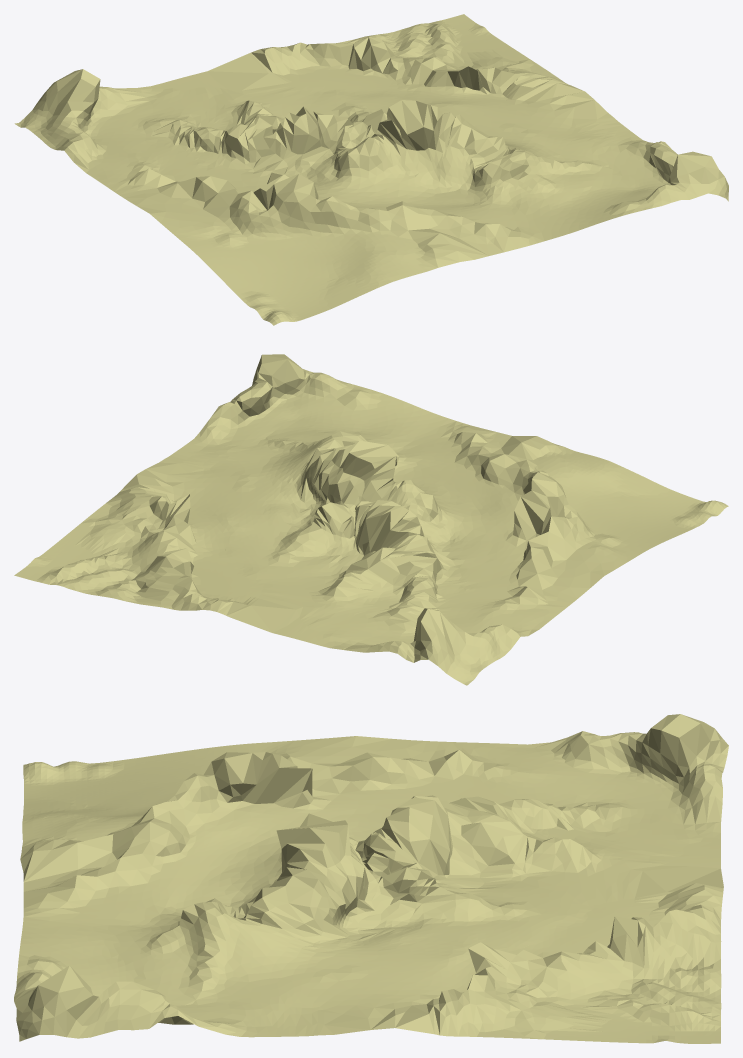
Rendered from terrain1.fbx.
The picture shows the model from 3 angles, top to bottom: view 1: azimuth 30°, elevation 25°; view 2: azimuth 150°, elevation 25°; view 3: azimuth 270°, elevation 25°; orthographic projection. The views are drawn at different scales.
Parts seen in each view (by area): view 1: Plane; view 2: Plane; view 3: Plane.
Part boxes in pixels (box(x1,y1,x2,y2)): Plane: box(14, 14, 728, 325); Plane: box(14, 354, 728, 685); Plane: box(14, 714, 728, 1043).
Bounding box in the file's own units: 93706 × 15760 × 93601.
